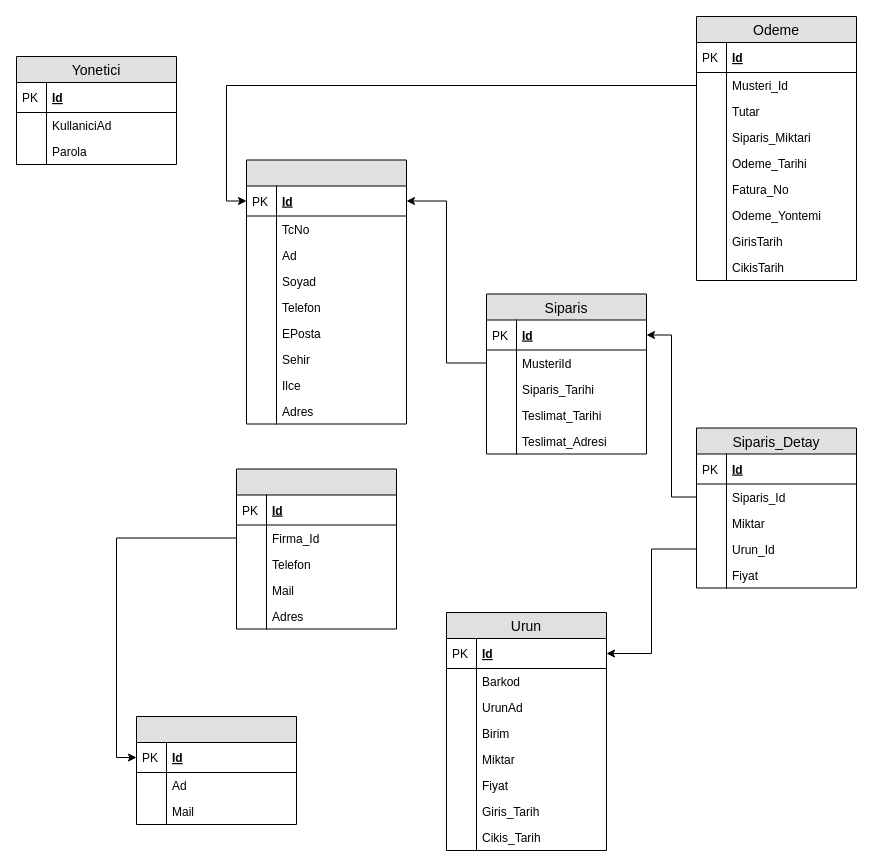
This 873x867 diagram has some shape labels left out. The box of each missing label's shape, as (x1, y1, x2, y2) in pixels:
Firma: (136, 716, 296, 824)
Musteri: (246, 159, 406, 424)
Toptancilar: (236, 468, 396, 629)
